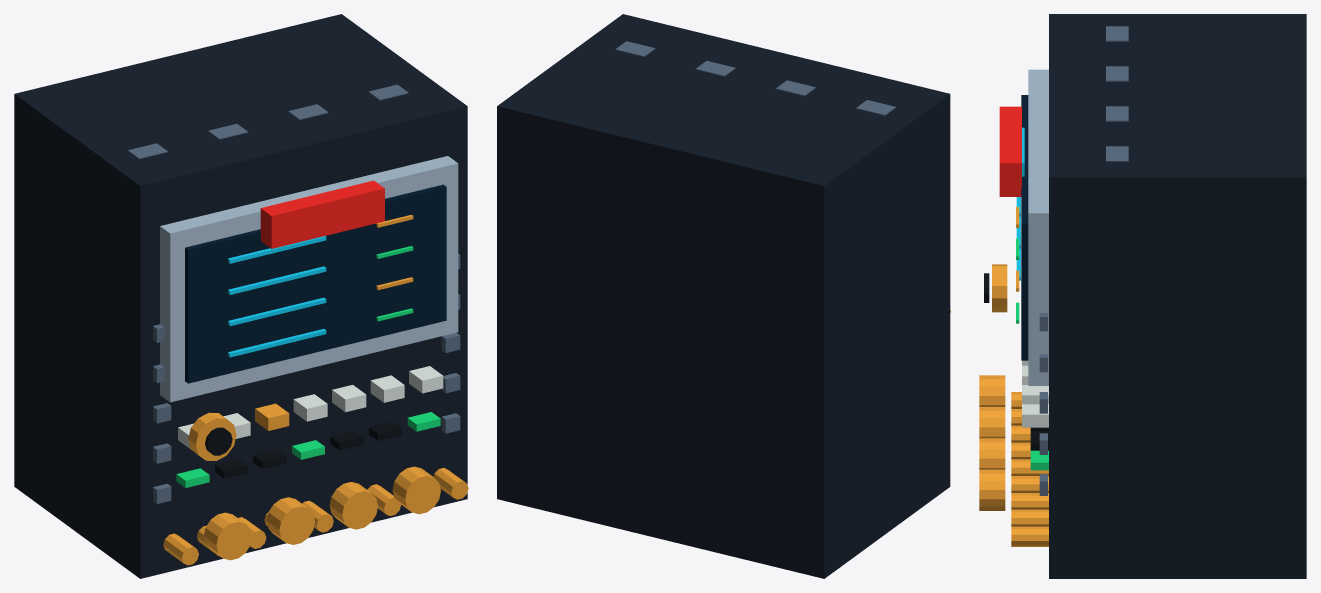
Rendered from 86_L88_W145CriticalPressureFeedbackPatchStation.fbx.
3 renders of one model, left to right at view 1: azimuth 30°, elevation 25°; view 2: azimuth 150°, elevation 25°; view 3: azimuth 270°, elevation 25°, orthographic. The views are drawn at different scales.
Parts seen in each view (by area): view 1: L87_W145CriticalPressureFeedbackPatchSta_Part_0000, L87_W145CriticalPressureFeedbackPatchSta_Part_0002, L87_W145CriticalPressureFeedbackPatchSta_Part_0001, L87_W145CriticalPressureFeedbackPatchSta_Part_0004, L87_W145CriticalPressureFeedbackPatchSta_Part_0010, L87_W145CriticalPressureFeedbackPatchSta_Part_0008, L87_W145CriticalPressureFeedbackPatchSta_Part_0006, L87_W145CriticalPressureFeedbackPatchSta_Part_0003, L87_W145CriticalPressureFeedbackPatchSta_Part_0007, L87_W145CriticalPressureFeedbackPatchSta_Part_0005, L87_W145CriticalPressureFeedbackPatchSta_Part_0011, L87_W145CriticalPressureFeedbackPatchSta_Part_0012; view 2: L87_W145CriticalPressureFeedbackPatchSta_Part_0000, L87_W145CriticalPressureFeedbackPatchSta_Part_0008; view 3: L87_W145CriticalPressureFeedbackPatchSta_Part_0000, L87_W145CriticalPressureFeedbackPatchSta_Part_0004, L87_W145CriticalPressureFeedbackPatchSta_Part_0001, L87_W145CriticalPressureFeedbackPatchSta_Part_0008, L87_W145CriticalPressureFeedbackPatchSta_Part_0010, L87_W145CriticalPressureFeedbackPatchSta_Part_0002, L87_W145CriticalPressureFeedbackPatchSta_Part_0006, L87_W145CriticalPressureFeedbackPatchSta_Part_0011, L87_W145CriticalPressureFeedbackPatchSta_Part_0005.
Part boxes in pixels (x1=…): L87_W145CriticalPressureFeedbackPatchSta_Part_0000: x1=14, y1=14, x2=467, y2=578; L87_W145CriticalPressureFeedbackPatchSta_Part_0002: x1=185, y1=184, x2=446, y2=383; L87_W145CriticalPressureFeedbackPatchSta_Part_0001: x1=160, y1=156, x2=458, y2=402; L87_W145CriticalPressureFeedbackPatchSta_Part_0004: x1=163, y1=214, x2=468, y2=565; L87_W145CriticalPressureFeedbackPatchSta_Part_0010: x1=260, y1=180, x2=384, y2=248; L87_W145CriticalPressureFeedbackPatchSta_Part_0008: x1=128, y1=84, x2=460, y2=503; L87_W145CriticalPressureFeedbackPatchSta_Part_0006: x1=178, y1=366, x2=443, y2=449; L87_W145CriticalPressureFeedbackPatchSta_Part_0003: x1=228, y1=236, x2=326, y2=357; L87_W145CriticalPressureFeedbackPatchSta_Part_0007: x1=215, y1=421, x2=401, y2=478; L87_W145CriticalPressureFeedbackPatchSta_Part_0005: x1=176, y1=246, x2=440, y2=487; L87_W145CriticalPressureFeedbackPatchSta_Part_0011: x1=188, y1=412, x2=236, y2=460; L87_W145CriticalPressureFeedbackPatchSta_Part_0012: x1=205, y1=427, x2=232, y2=455; L87_W145CriticalPressureFeedbackPatchSta_Part_0000: x1=497, y1=14, x2=950, y2=578; L87_W145CriticalPressureFeedbackPatchSta_Part_0008: x1=615, y1=41, x2=895, y2=115; L87_W145CriticalPressureFeedbackPatchSta_Part_0000: x1=1049, y1=14, x2=1306, y2=578; L87_W145CriticalPressureFeedbackPatchSta_Part_0004: x1=979, y1=207, x2=1048, y2=546; L87_W145CriticalPressureFeedbackPatchSta_Part_0001: x1=1028, y1=69, x2=1048, y2=385; L87_W145CriticalPressureFeedbackPatchSta_Part_0008: x1=1039, y1=26, x2=1128, y2=495; L87_W145CriticalPressureFeedbackPatchSta_Part_0010: x1=999, y1=106, x2=1021, y2=196; L87_W145CriticalPressureFeedbackPatchSta_Part_0002: x1=1021, y1=95, x2=1028, y2=360; L87_W145CriticalPressureFeedbackPatchSta_Part_0006: x1=1022, y1=360, x2=1048, y2=427; L87_W145CriticalPressureFeedbackPatchSta_Part_0011: x1=992, y1=264, x2=1007, y2=312; L87_W145CriticalPressureFeedbackPatchSta_Part_0005: x1=1016, y1=238, x2=1048, y2=470.
Size of the model in its own units: 104 by 120 by 88.18.
